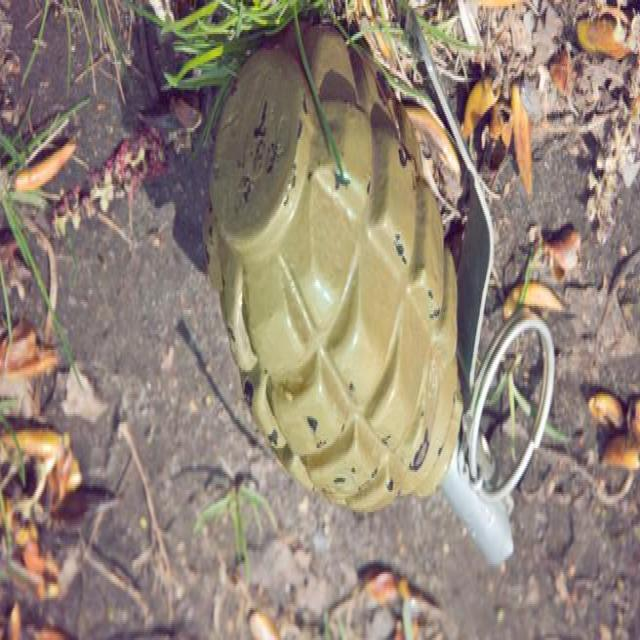grenade: (203, 17, 555, 565)
